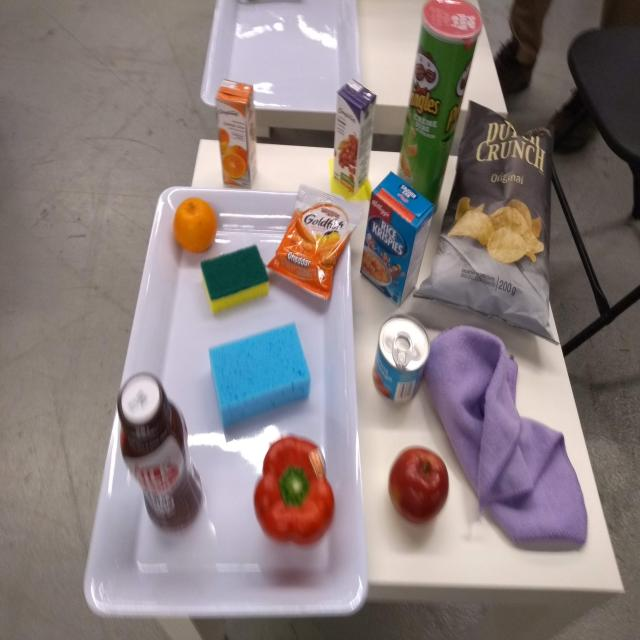apple: (387, 441, 451, 526)
cereal: (359, 167, 438, 308)
chocolate_drink: (112, 368, 210, 540)
cloth_opl: (423, 321, 591, 556)
crackers: (266, 181, 371, 309)
grape_juice: (330, 76, 377, 193)
orange: (170, 194, 220, 256)
orange_juice: (213, 76, 265, 193)
paprika: (252, 435, 336, 548)
potato_chips: (410, 99, 560, 348)
sausages: (370, 312, 432, 407)
scrubby: (198, 241, 274, 318)
sponge_opl: (207, 317, 314, 434)
